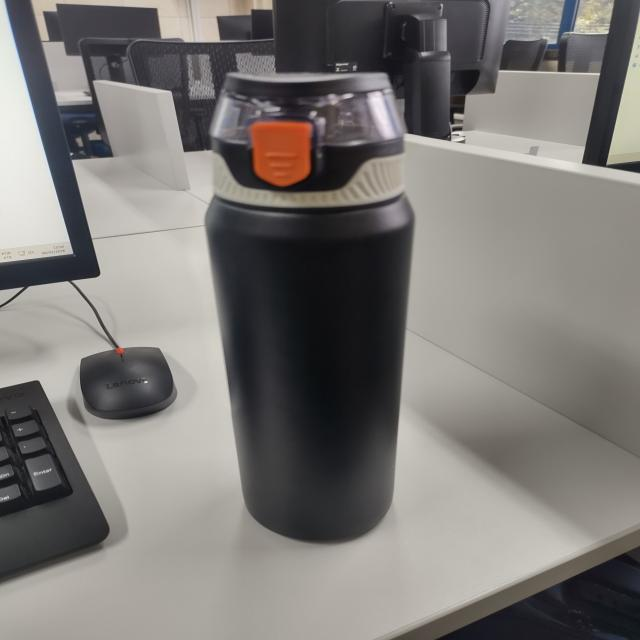Garrafa: (206, 73, 414, 542)
